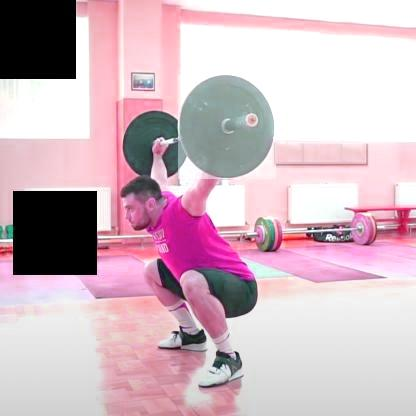barbell: (179, 77, 276, 180)
